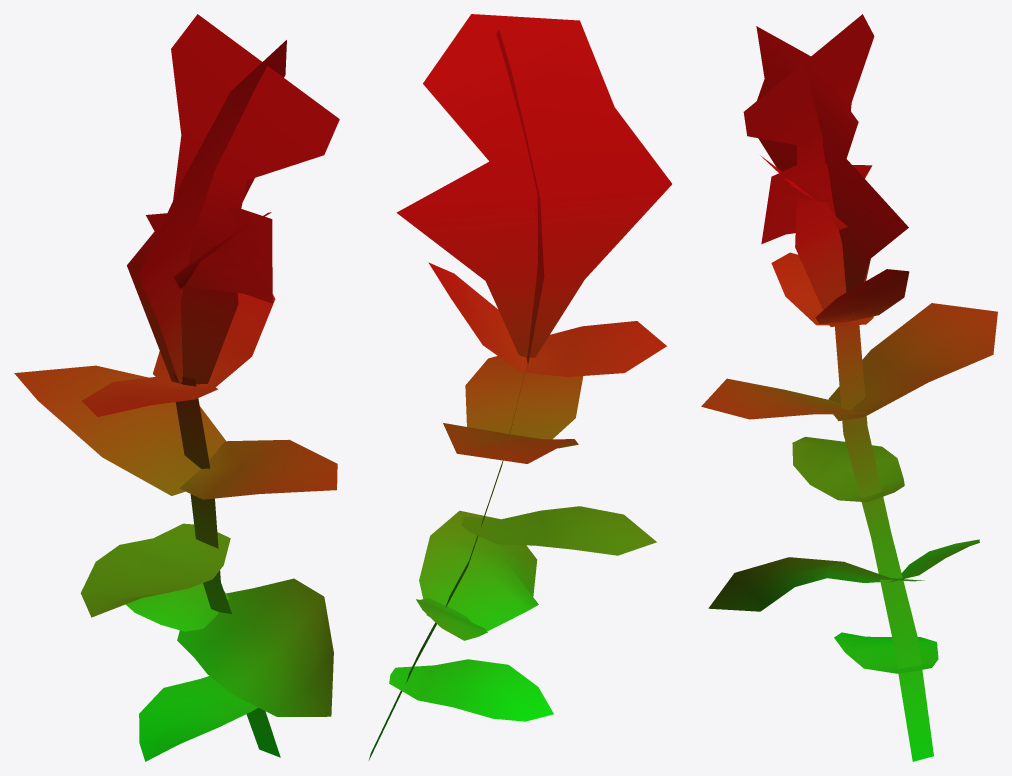
Rendered from Rubber Bush_LOD4_Var5_xffhfekia.fbx.
The picture shows the model from 3 angles, left to right: view 1: azimuth 30°, elevation 25°; view 2: azimuth 150°, elevation 25°; view 3: azimuth 270°, elevation 25°; orthographic projection. The views are drawn at different scales.
Parts seen in each view (by area): view 1: _iyew_Var5_LOD4; view 2: _iyew_Var5_LOD4; view 3: _iyew_Var5_LOD4.
Boxes of the visible parts, x1=… form: _iyew_Var5_LOD4: x1=14, y1=14, x2=339, y2=761; _iyew_Var5_LOD4: x1=369, y1=14, x2=671, y2=760; _iyew_Var5_LOD4: x1=701, y1=14, x2=997, y2=761.
Size of the model in its own units: 22.52 by 67.42 by 25.93.
